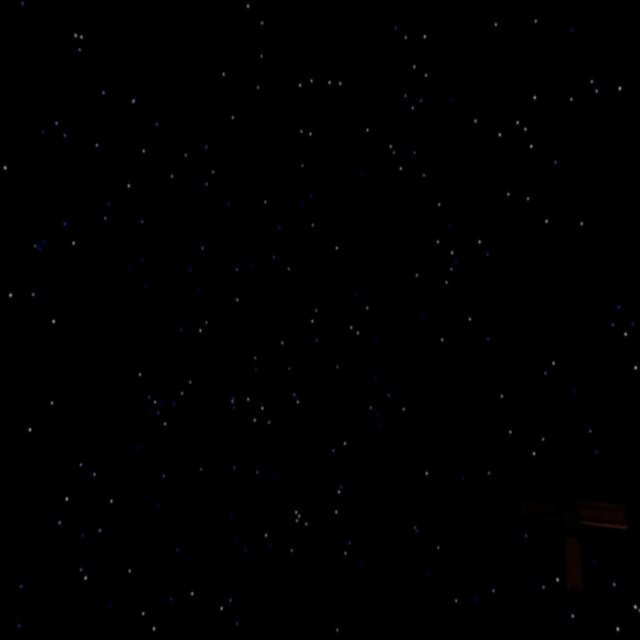medium_debris: (540, 486, 638, 594)
